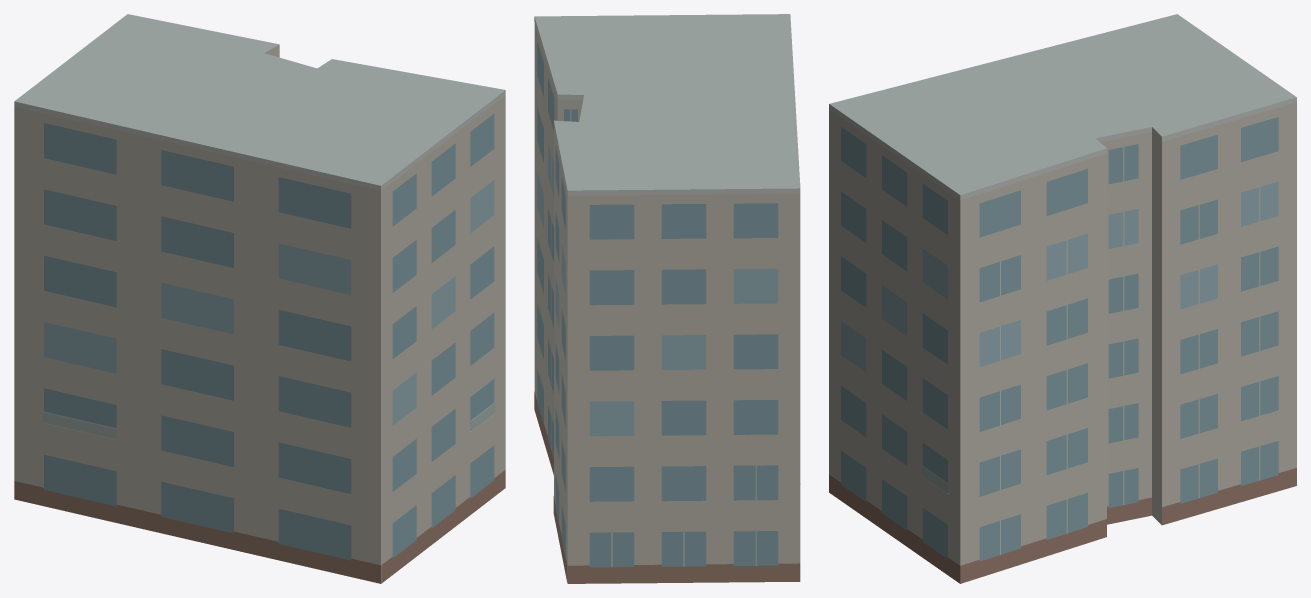
The model's file is survey-upis-32497098.glb.
The picture shows the model from 3 angles, left to right: view 1: azimuth 30°, elevation 25°; view 2: azimuth 150°, elevation 25°; view 3: azimuth 270°, elevation 25°; orthographic projection. The views are drawn at different scales.
Parts seen in each view (by area): view 1: survey-upis-32497098.tmp; view 2: survey-upis-32497098.tmp; view 3: survey-upis-32497098.tmp.
Boxes of the visible parts, left/top/right/bottom form: survey-upis-32497098.tmp: left=14, top=14, right=505, bottom=583; survey-upis-32497098.tmp: left=534, top=14, right=800, bottom=583; survey-upis-32497098.tmp: left=829, top=14, right=1296, bottom=583.
Bounding box in the file's own units: 18.31 × 18.3 × 19.97.
